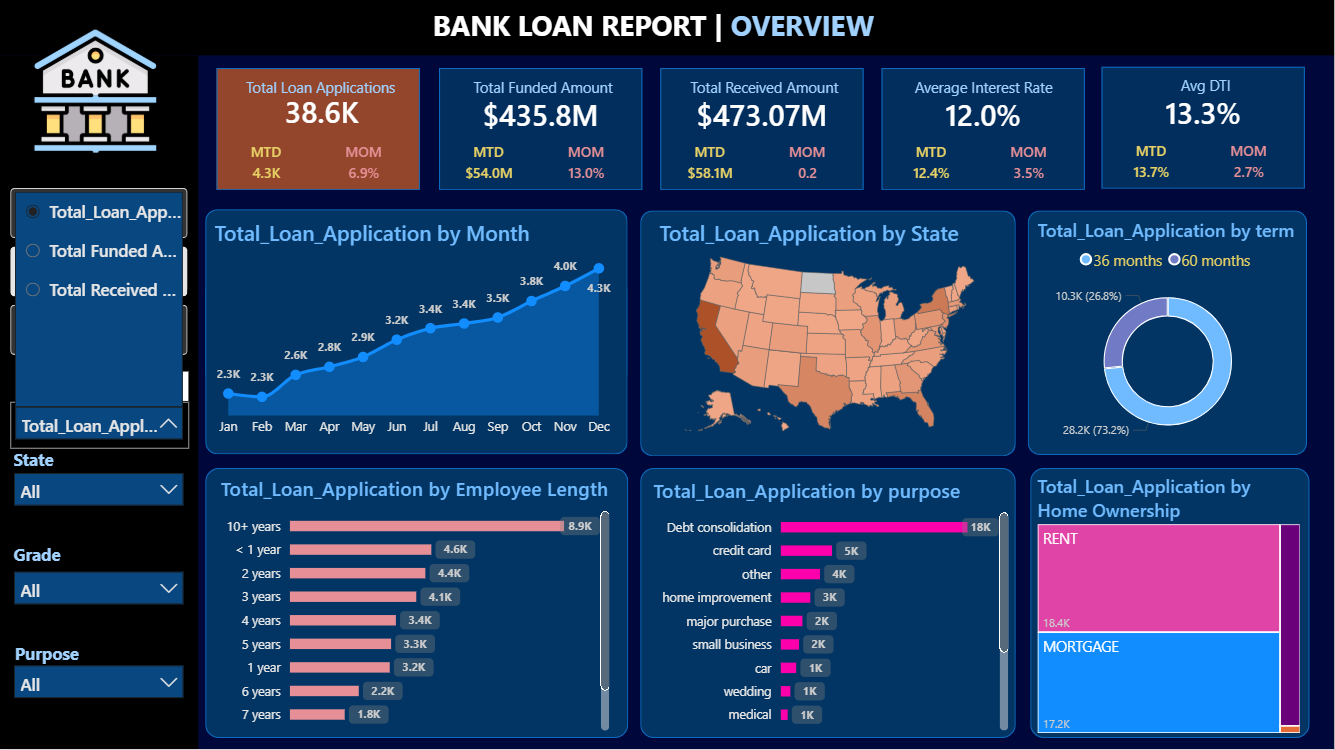

This screenshot's page, from the dashboard's own definition file:
{"tool":"powerbi","page":{"name":"Overview","canvas":[1280,720],"ordinal":1},"visuals":[{"type":"shape","box":[0,0,1280,55],"z":0},{"type":"shape","box":[1057.1,65.7,195,117],"z":0,"group":"g5"},{"type":"shape","box":[209,67,195,117],"z":0,"group":"g1"},{"type":"shape","box":[421.4,67,195,117],"z":0,"group":"g2"},{"type":"shape","box":[633.7,67,195,117],"z":0,"group":"g3"},{"type":"shape","box":[846.1,67.1,195,117],"z":0,"group":"g4"},{"type":"shape","box":[0,54.9,191.5,664.8],"z":1000},{"type":"card","fields":{"Values":["Measure table.Average_DTI"]},"box":[1075.1,73.7,159,75],"z":1000,"group":"g5"},{"type":"card","fields":{"Values":["Measure table.Total_Loan_Application"]},"box":[236,75,147,69],"z":1000,"group":"g1"},{"type":"card","fields":{"Values":["Measure table.Total Funded Amount"]},"box":[439.4,75,159,75],"z":1000,"group":"g2"},{"type":"card","fields":{"Values":["Measure table.Total Received Amount"]},"box":[651.7,75,159,75],"z":1000,"group":"g3"},{"type":"card","fields":{"Values":["Measure table.Average_interest_rate"]},"box":[864.1,75.1,159,75],"z":1000,"group":"g4"},{"type":"textbox","box":[1059.1,73.7,195,32],"z":2000,"group":"g5"},{"type":"textbox","box":[211,75,195,32],"z":2000,"group":"g1"},{"type":"textbox","box":[423.4,75,195,32],"z":2000,"group":"g2"},{"type":"textbox","box":[635.7,75,195,32],"z":2000,"group":"g3"},{"type":"textbox","box":[848.1,75.1,195,32],"z":2000,"group":"g4"},{"type":"textbox","box":[212.2,207.8,194.4,32.2],"z":2000},{"type":"card","title":"MTD","fields":{"Values":["Measure table.MTD_Avg_dti"]},"box":[1071.1,124.7,66,58],"z":3000,"group":"g5"},{"type":"card","title":"MTD","fields":{"Values":["Measure table.MTD_Loan_Application"]},"box":[223,126,66,58],"z":3000,"group":"g1"},{"type":"card","title":"MTD","fields":{"Values":["Measure table.MTD_funded_amount"]},"box":[435.4,126,66,58],"z":3000,"group":"g2"},{"type":"card","title":"MTD","fields":{"Values":["Measure table.MTD_Received_amount"]},"box":[647.7,126,66,58],"z":3000,"group":"g3"},{"type":"card","title":"MTD","fields":{"Values":["Measure table.MTD_interest_rate"]},"box":[860.1,126.1,66,58],"z":3000,"group":"g4"},{"type":"textbox","box":[223.3,202.2,194.4,32.2],"z":3000},{"type":"card","title":"MOM","fields":{"Values":["Measure table.Mom Average DTI"]},"box":[1165.1,124.7,66,58],"z":4000,"group":"g5"},{"type":"card","title":"MOM","fields":{"Values":["Measure table.mom Loan Application"]},"box":[317,126,66,58],"z":4000,"group":"g1"},{"type":"card","title":"MOM","fields":{"Values":["Measure table.Mom funded Amount"]},"box":[529.4,126,66,58],"z":4000,"group":"g2"},{"type":"card","title":"MOM","fields":{"Values":["Measure table.Mom Received Amount"]},"box":[741.7,126,66,58],"z":4000,"group":"g3"},{"type":"card","title":"MOM","fields":{"Values":["Measure table.Mom interest Rate"]},"box":[954.1,126.1,66,58],"z":4000,"group":"g4"},{"type":"shape","box":[197.8,202.2,405,235],"z":4000},{"type":"textbox","box":[416,7,448,43],"z":5000},{"type":"group","id":"g1","title":"Group 1","box":[209,67,197,117],"z":6000},{"type":"group","id":"g2","title":"Group 1","box":[421.4,67,197,117],"z":7000},{"type":"group","id":"g3","title":"Group 1","box":[633.7,67,197,117],"z":8000},{"type":"group","id":"g4","title":"Group 1","box":[846.1,67.1,195.7,117.1],"z":9000},{"type":"group","id":"g5","title":"Group 1","box":[1057.1,65.7,197.1,115.7],"z":10000},{"type":"slicer","fields":{"Values":["financial_loan.address_state"]},"box":[9.9,450.7,171.8,43.7],"z":11000},{"type":"textbox","box":[9.9,431,85.9,32.4],"z":12000},{"type":"slicer","fields":{"Values":["financial_loan.grade"]},"box":[9.9,545.1,171.8,43.7],"z":13000},{"type":"textbox","box":[9.9,522.5,85.9,32.4],"z":14000},{"type":"slicer","fields":{"Values":["financial_loan.purpose"]},"box":[9.9,635.2,171.8,43.7],"z":15000},{"type":"textbox","box":[11.3,616.9,85.9,40.8],"z":16000},{"type":"slicer","fields":{"Values":["Select Measure.Select Measure"]},"box":[11.3,387.3,170.4,43.7],"z":17000},{"type":"textbox","box":[11.3,360.6,129.6,32.4],"z":18000},{"type":"areaChart","fields":{"Category":["Date Table.MonthName"]},"box":[196.7,203.3,401.1,227.8],"z":19000},{"type":"shape","box":[614.4,203.3,360,235.6],"z":20000},{"type":"shapeMap","fields":{"Category":["financial_loan.address_state"]},"box":[616.7,203.3,357.8,227.8],"z":21000},{"type":"shape","box":[986.7,203.3,267.8,234.4],"z":22000},{"type":"donutChart","fields":{"Category":["financial_loan.term"]},"box":[988.9,203.3,263.3,234.4],"z":23000},{"type":"shape","box":[197.8,451.1,405.6,258.9],"z":24000},{"type":"barChart","fields":{"Category":["financial_loan.emp_length"]},"box":[202.2,451.1,392.2,258.9],"z":25000},{"type":"shape","box":[614.4,451.1,360,258.9],"z":26000},{"type":"barChart","fields":{"Category":["financial_loan.purpose"]},"box":[616.7,452.2,360,257.8],"z":27000},{"type":"shape","box":[988.9,451.1,267.8,258.9],"z":28000},{"type":"treemap","fields":{"Group":["financial_loan.home_ownership"]},"box":[988.9,452.2,265.6,257.8],"z":29000},{"type":"pageNavigator","box":[11.2,182.5,170,162.5],"z":30000},{"type":"image","box":[26.2,26.2,132.5,123.8],"z":31000}]}

Visuals, with their boxes in screenshot pixels (x1, y1, x2, y2), scaled from the page's 1280x720 canvas onto the 1335x750 screenshot:
shape: box=[0, 0, 1334, 57]
shape: box=[1103, 68, 1306, 190]
shape: box=[218, 70, 421, 192]
shape: box=[440, 70, 643, 192]
shape: box=[661, 70, 864, 192]
shape: box=[882, 70, 1086, 192]
shape: box=[0, 57, 200, 749]
card - Measure table.Average_DTI: box=[1121, 77, 1287, 155]
card - Measure table.Total_Loan_Application: box=[246, 78, 399, 150]
card - Measure table.Total Funded Amount: box=[458, 78, 624, 156]
card - Measure table.Total Received Amount: box=[680, 78, 846, 156]
card - Measure table.Average_interest_rate: box=[901, 78, 1067, 156]
textbox: box=[1105, 77, 1308, 110]
textbox: box=[220, 78, 423, 111]
textbox: box=[442, 78, 645, 111]
textbox: box=[663, 78, 866, 111]
textbox: box=[885, 78, 1088, 112]
textbox: box=[221, 216, 424, 250]
"MTD" card: box=[1117, 130, 1186, 190]
"MTD" card: box=[233, 131, 301, 192]
"MTD" card: box=[454, 131, 523, 192]
"MTD" card: box=[676, 131, 744, 192]
"MTD" card: box=[897, 131, 966, 192]
textbox: box=[233, 211, 436, 244]
"MOM" card: box=[1215, 130, 1284, 190]
"MOM" card: box=[331, 131, 399, 192]
"MOM" card: box=[552, 131, 621, 192]
"MOM" card: box=[774, 131, 842, 192]
"MOM" card: box=[995, 131, 1064, 192]
shape: box=[206, 211, 629, 455]
textbox: box=[434, 7, 901, 52]
"Group 1" group: box=[218, 70, 423, 192]
"Group 1" group: box=[440, 70, 645, 192]
"Group 1" group: box=[661, 70, 866, 192]
"Group 1" group: box=[882, 70, 1087, 192]
"Group 1" group: box=[1103, 68, 1308, 189]
slicer - financial_loan.address_state: box=[10, 469, 190, 515]
textbox: box=[10, 449, 100, 483]
slicer - financial_loan.grade: box=[10, 568, 190, 613]
textbox: box=[10, 544, 100, 578]
slicer - financial_loan.purpose: box=[10, 662, 190, 707]
textbox: box=[12, 643, 101, 685]
slicer - Select Measure.Select Measure: box=[12, 403, 190, 449]
textbox: box=[12, 376, 147, 409]
areaChart - Date Table.MonthName: box=[205, 212, 623, 449]
shape: box=[641, 212, 1016, 457]
shapeMap - financial_loan.address_state: box=[643, 212, 1016, 449]
shape: box=[1029, 212, 1308, 456]
donutChart - financial_loan.term: box=[1031, 212, 1306, 456]
shape: box=[206, 470, 629, 740]
barChart - financial_loan.emp_length: box=[211, 470, 620, 740]
shape: box=[641, 470, 1016, 740]
barChart - financial_loan.purpose: box=[643, 471, 1019, 740]
shape: box=[1031, 470, 1311, 740]
treemap - financial_loan.home_ownership: box=[1031, 471, 1308, 740]
pageNavigator: box=[12, 190, 189, 359]
image: box=[27, 27, 166, 156]
